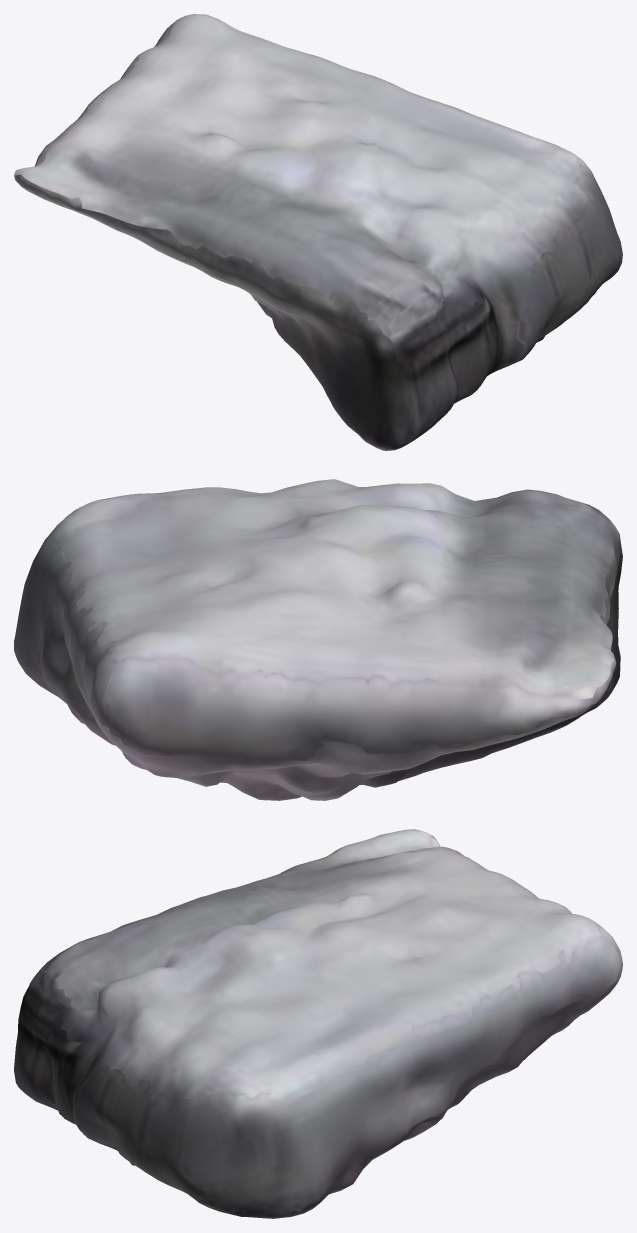
Rendered from 23_bed.glb.
3 views of the same model, one above another, from view 1: azimuth 30°, elevation 25°; view 2: azimuth 150°, elevation 25°; view 3: azimuth 270°, elevation 25° (orthographic). The views are drawn at different scales.
Parts seen in each view (by area): view 1: 23_bed; view 2: 23_bed; view 3: 23_bed.
Boxes of the visible parts, box(x1,y1,x2,y2) form: 23_bed: box(14, 14, 622, 450); 23_bed: box(14, 479, 622, 800); 23_bed: box(14, 829, 622, 1218).
Size of the model in its own units: 1.77 by 0.7469 by 1.85.
1 material, 1 textured.
